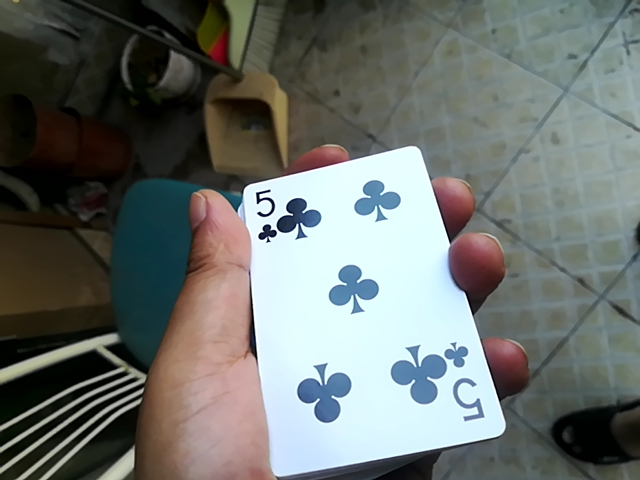mh 5: (235, 144, 499, 480)
